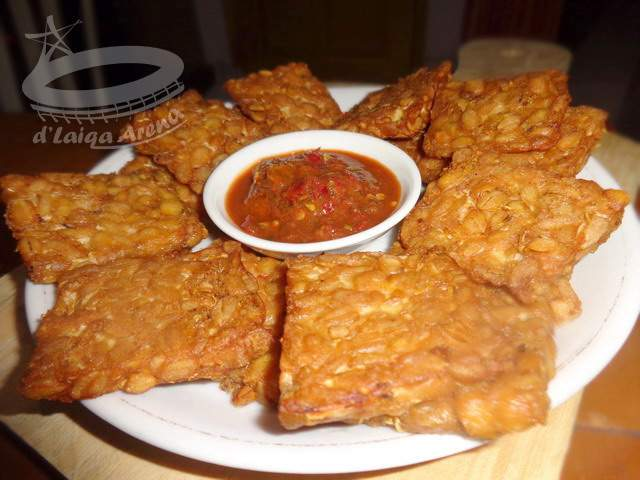Tempe: (1, 244, 277, 426), (294, 276, 539, 425), (405, 159, 617, 283), (1, 146, 190, 267), (428, 48, 580, 157), (318, 43, 456, 152), (118, 82, 240, 205), (257, 21, 328, 143)
